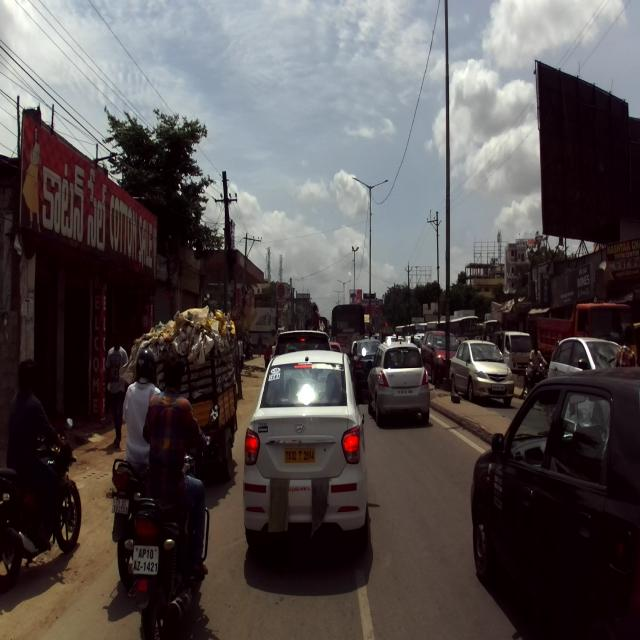autorickshaw: (129, 298, 239, 478)
car: (470, 368, 640, 640), (243, 349, 373, 559), (365, 340, 430, 427)
motorcycle: (124, 403, 223, 639), (0, 410, 83, 592), (106, 449, 150, 583)
